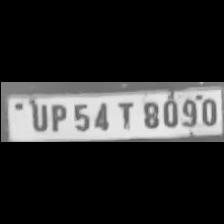0: (160, 96, 180, 128), (198, 96, 218, 126)
4: (90, 99, 112, 131)
5: (68, 100, 90, 132)
8: (137, 98, 161, 130)
9: (179, 97, 197, 127)
P: (46, 102, 68, 132)
T: (112, 99, 136, 131)
U: (26, 100, 48, 132)
